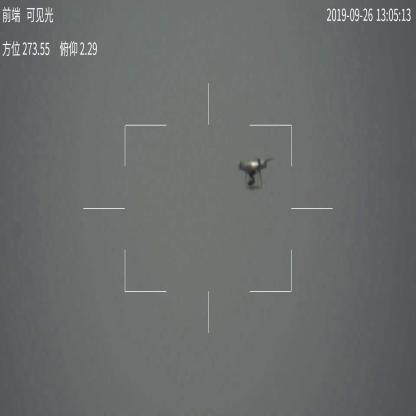uav: (235, 154, 272, 192)
